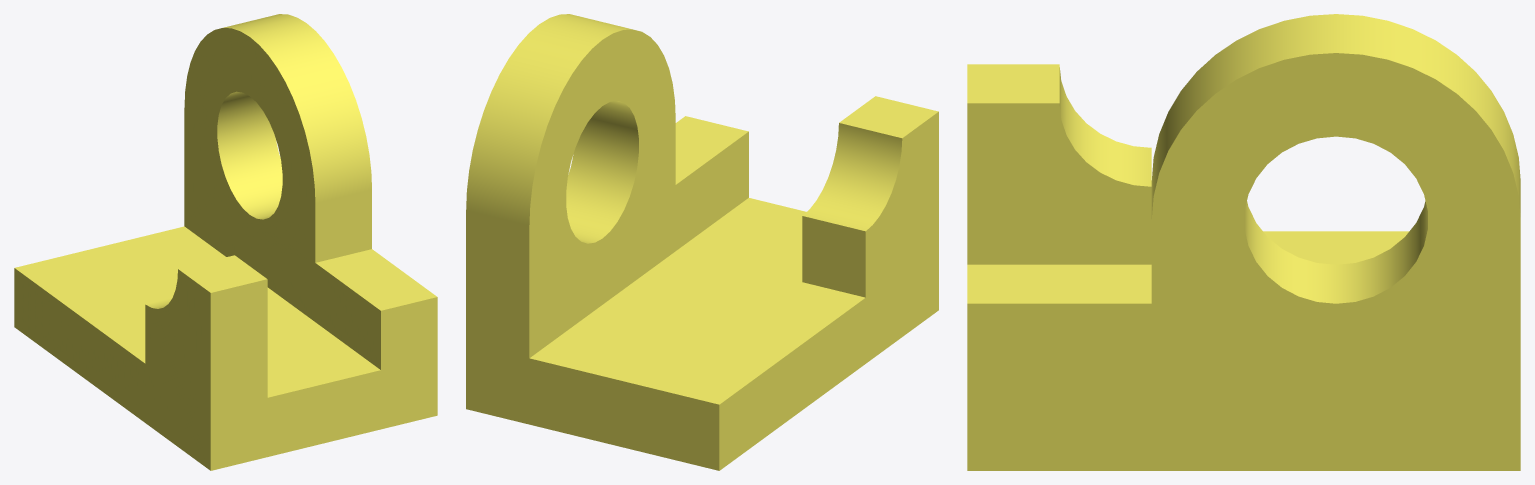
The picture shows the model from 3 angles, left to right: view 1: azimuth 30°, elevation 25°; view 2: azimuth 150°, elevation 25°; view 3: azimuth 270°, elevation 25°; orthographic projection. The views are drawn at different scales.
Parts seen in each view (by area): view 1: 908; view 2: 908; view 3: 908.
Boxes of the visible parts, x1,y1,x2,y2 form: 908: (14,14,437,470); 908: (466,14,938,470); 908: (967,14,1520,470).
Size of the model in its own units: 0.04 by 0.05 by 0.06.
